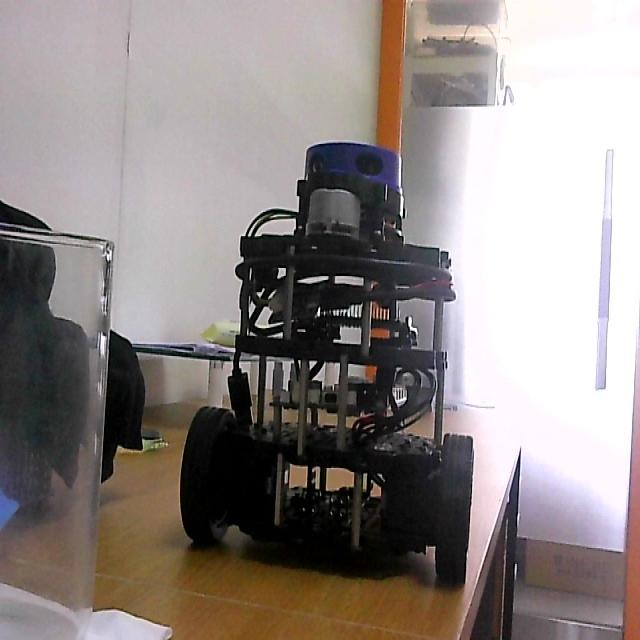turtle: (177, 138, 480, 590)
